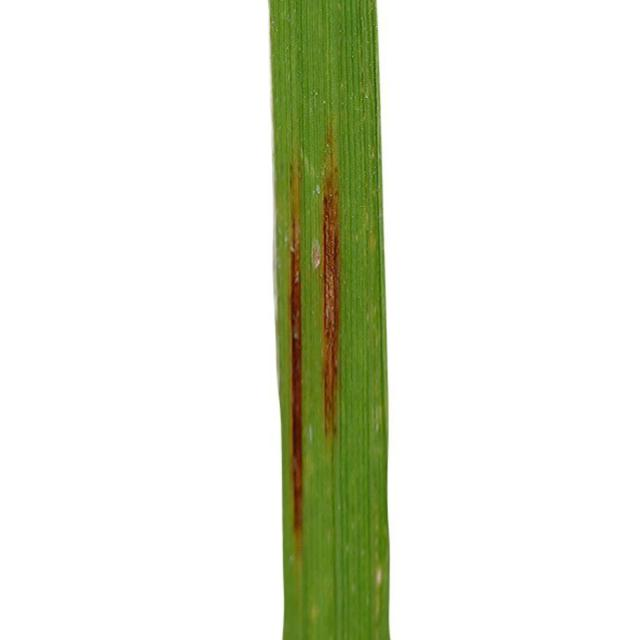Narrow brown: (212, 1, 455, 640)
